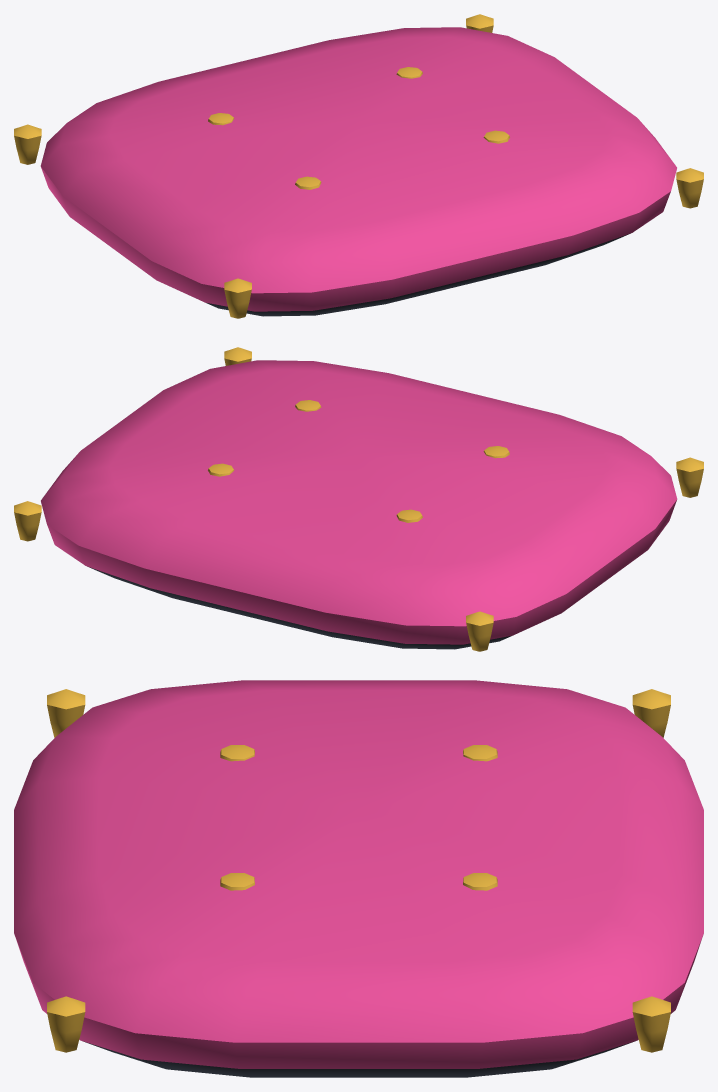
File: gear_cushion.glb
3 views of the same model, one above another, from view 1: azimuth 30°, elevation 25°; view 2: azimuth 150°, elevation 25°; view 3: azimuth 270°, elevation 25° (orthographic). The views are drawn at different scales.
Visible parts, largest first — view 1: cushion; view 2: cushion; view 3: cushion.
Part boxes in pixels (x1,y1,x2,y2): cushion: (14,14,703,318); cushion: (14,347,703,651); cushion: (14,680,703,1077).
Size of the model in its own units: 0.4012 by 0.065 by 0.3416.
